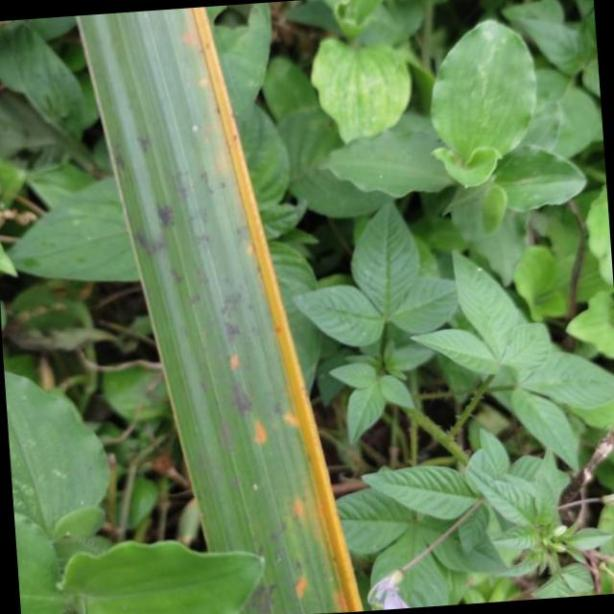Megnesium: (76, 0, 364, 614)
